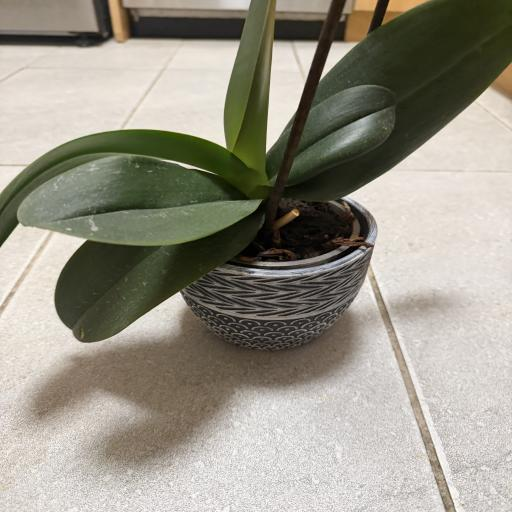Plant Pot: (175, 190, 379, 352)
